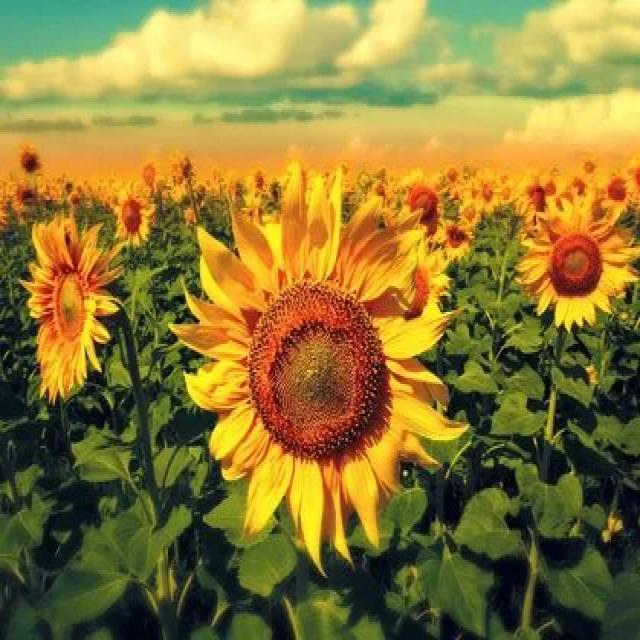sunflower: (186, 158, 463, 556), (18, 208, 122, 408), (514, 184, 640, 344), (396, 168, 448, 250), (111, 180, 156, 244), (515, 174, 553, 230)
